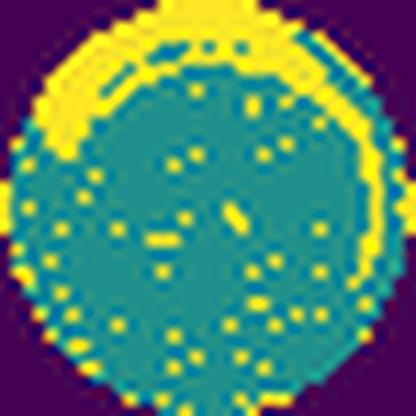Edge-Loc: (29, 0, 389, 296)
